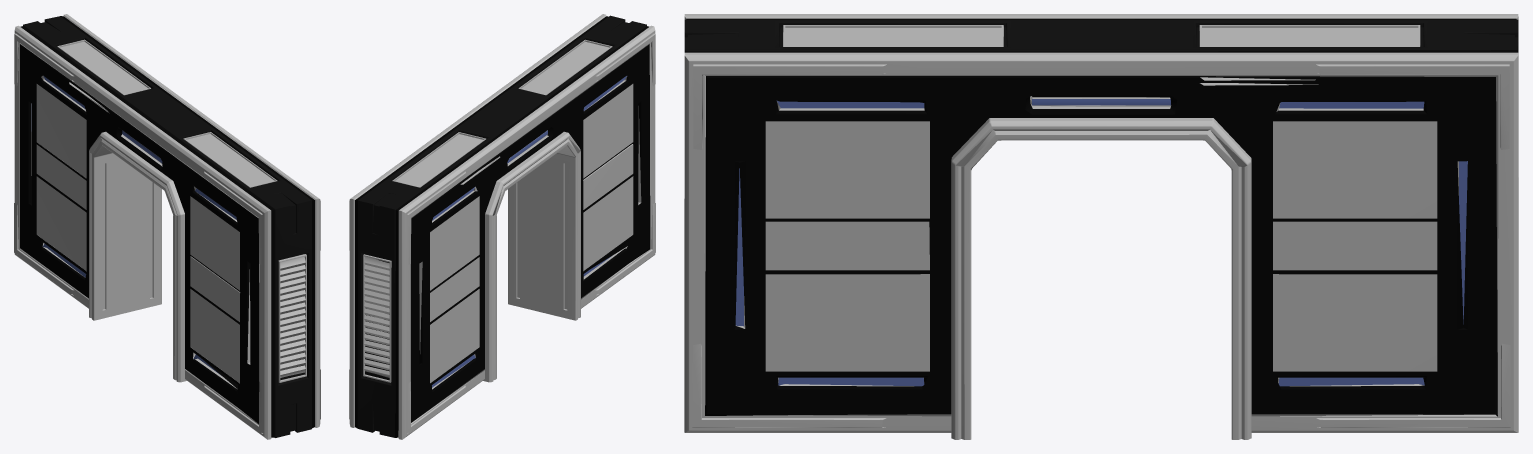
File: SM_Modular_WallDoor.FBX
The picture shows the model from 3 angles, left to right: view 1: azimuth 30°, elevation 25°; view 2: azimuth 150°, elevation 25°; view 3: azimuth 270°, elevation 25°; orthographic projection. The views are drawn at different scales.
Visible parts, largest first — view 1: SM_Modular_WallDoor; view 2: SM_Modular_WallDoor; view 3: SM_Modular_WallDoor.
Boxes of the visible parts, left/top/right/bottom form: SM_Modular_WallDoor: left=14, top=14, right=320, bottom=439; SM_Modular_WallDoor: left=349, top=14, right=655, bottom=439; SM_Modular_WallDoor: left=684, top=14, right=1518, bottom=439.
Size of what is drawn, in the model's own units: 78.3 by 500 by 250.
